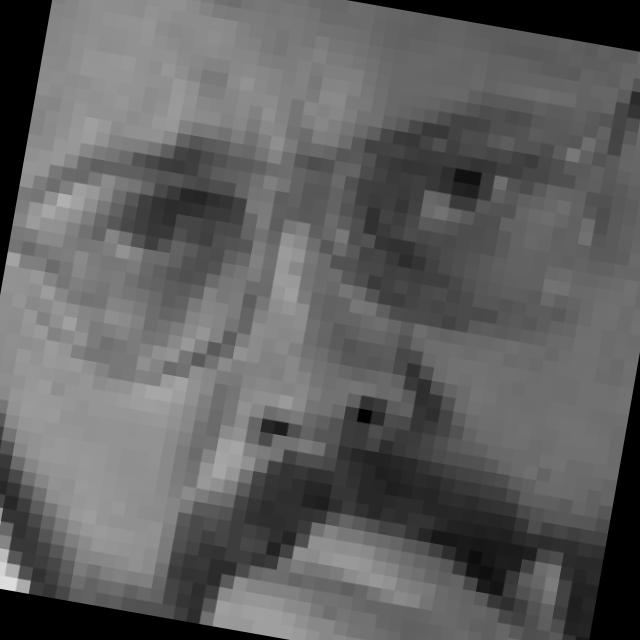fear: (0, 23, 565, 640)
